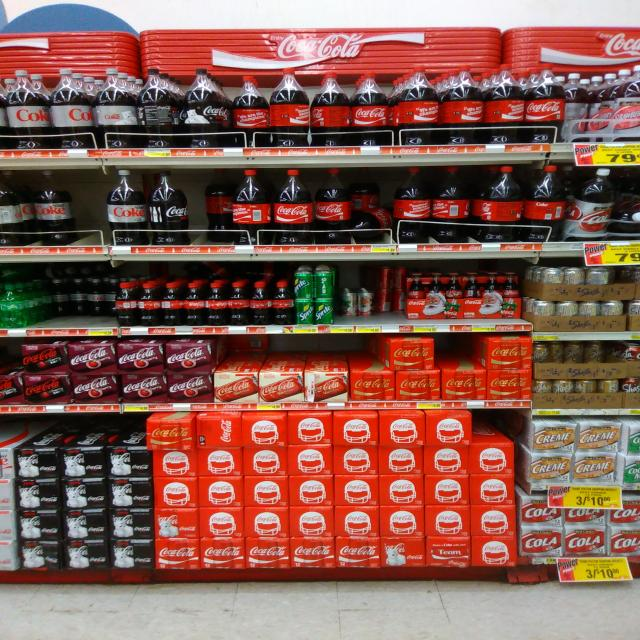empty: (66, 159, 104, 253)
